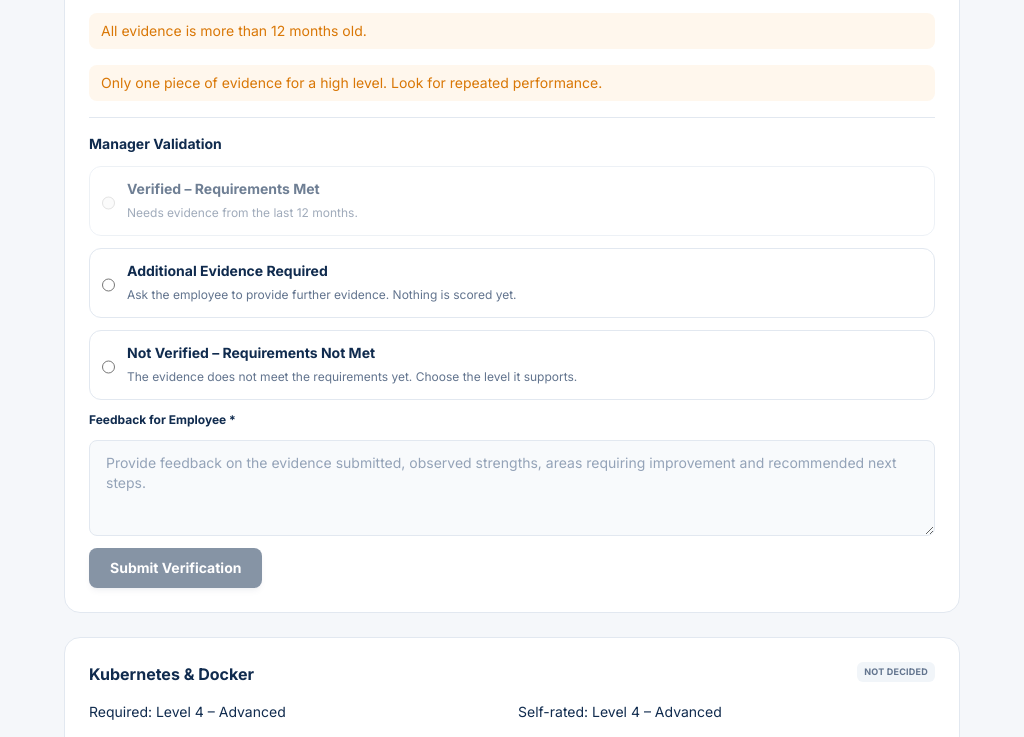
Test: Screens › manager: chooses a level when not verified, and cannot verify on old evidence
(page scrolled)
Check: the radio button labelled "Verified – Requirements Met" is disabled, box [102,183,115,223]
Click the radio button labelled "Not Verified" at [108, 367], box [102,347,115,387]
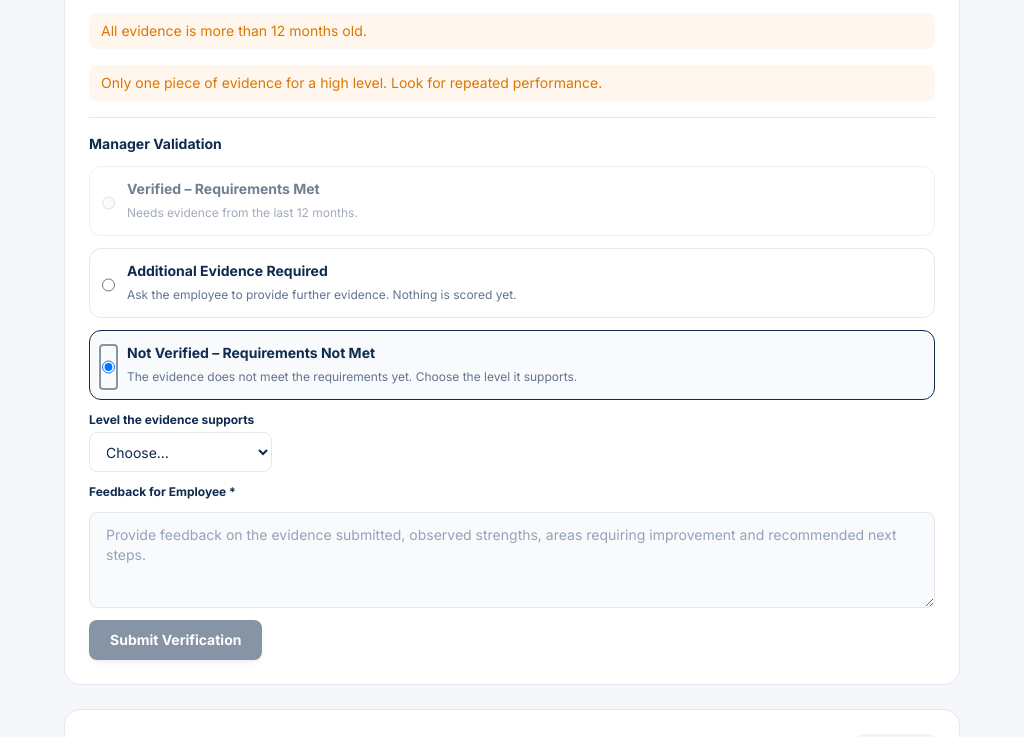
Type "Needs recent work." into the text box labelled "Feedback for Employee *" at [512, 560], box [89,512,935,608]
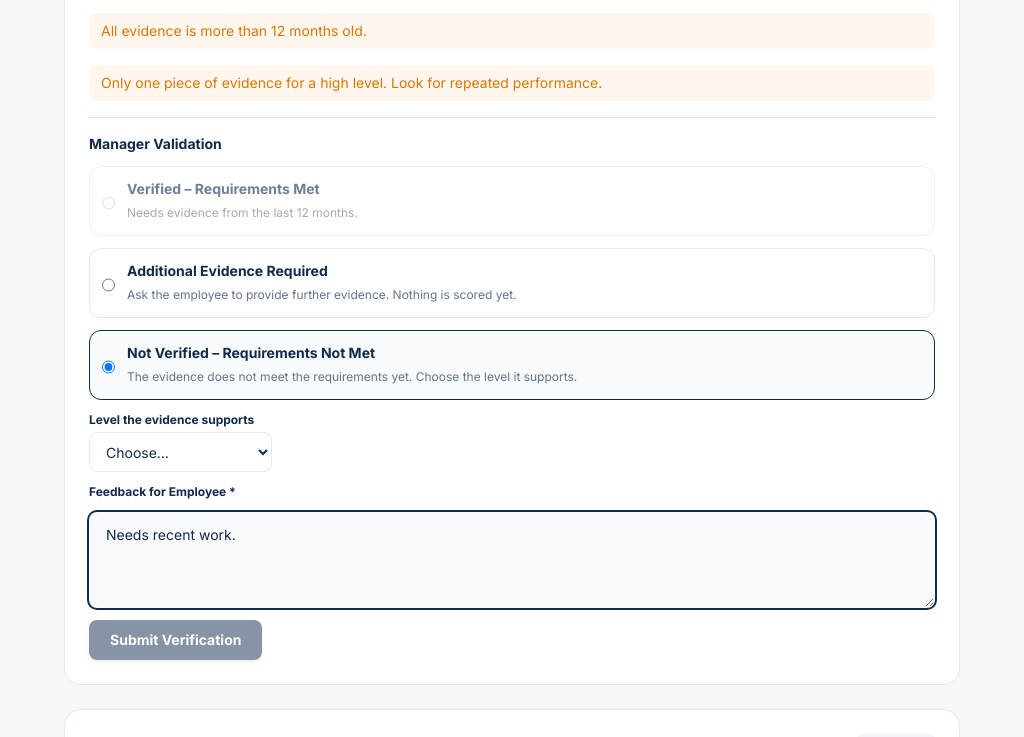
Check: the button "Submit Verification" is disabled, box [89,620,262,660]
Select "Level 3 – Proficient" in the dropdown labelled "Level the evidence supports" at [180, 452], box [89,432,272,472]
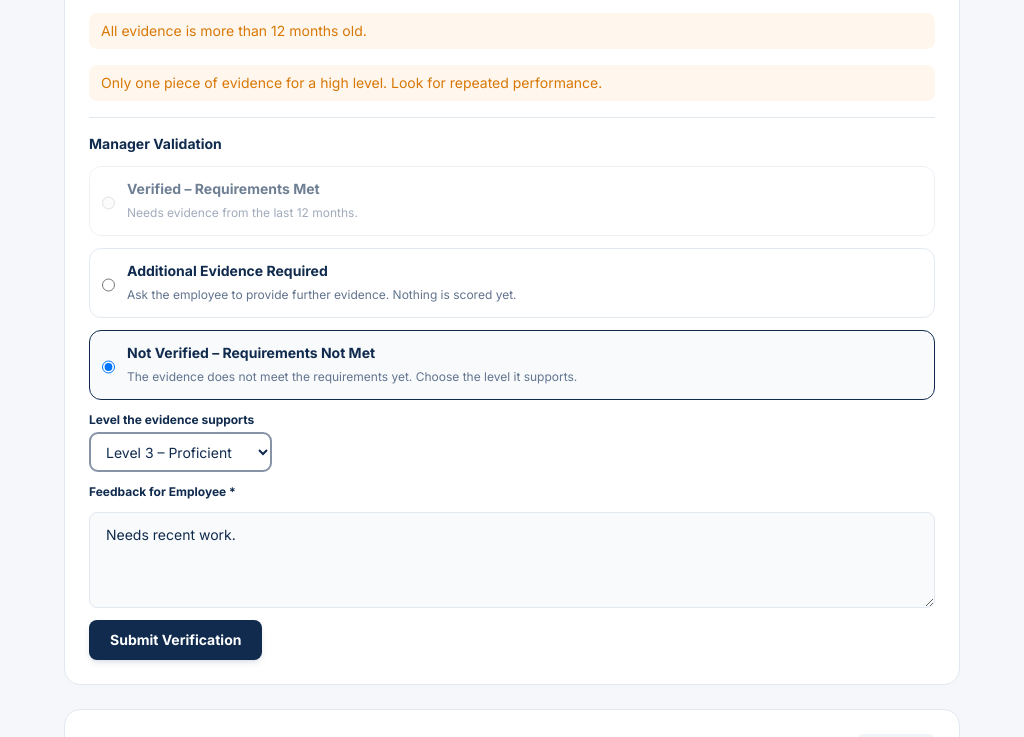
Click the button "Submit Verification" at [176, 640], box [89,620,262,660]
(page scrolled)
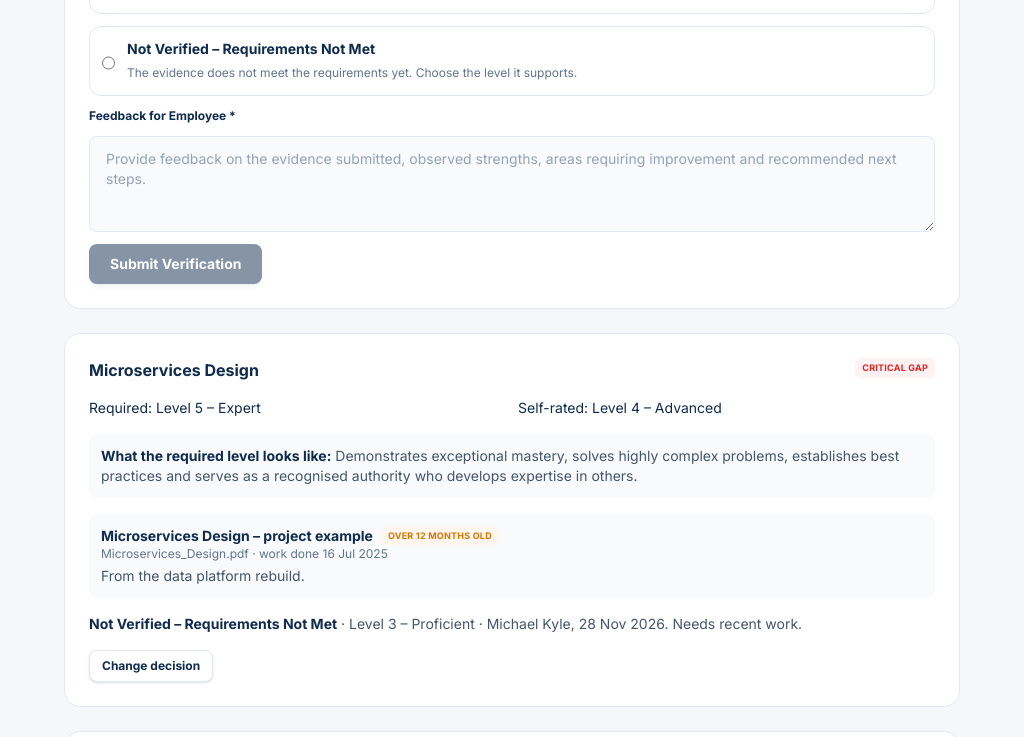
Check: the text "Critical gap" is shown, box [855,358,935,378]
